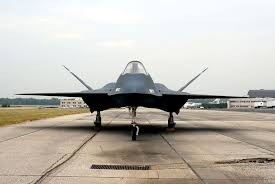fighter: (11, 57, 251, 135)
